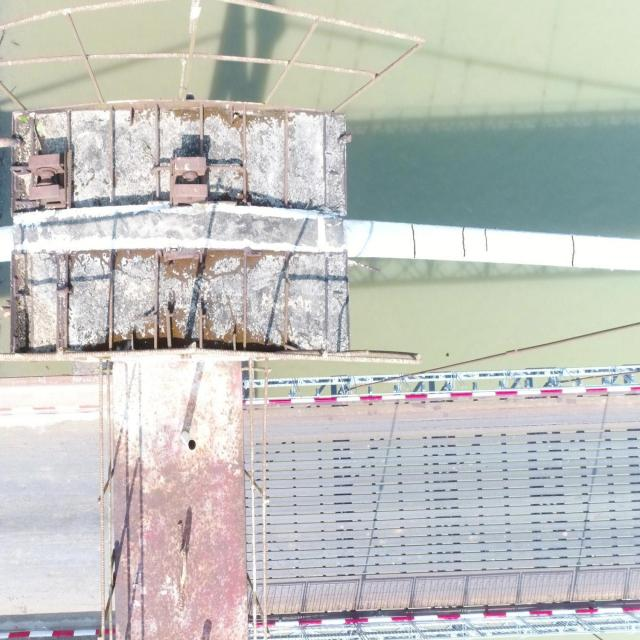crack: (410, 224, 417, 259), (461, 226, 466, 256), (571, 236, 575, 266), (484, 228, 488, 252)
